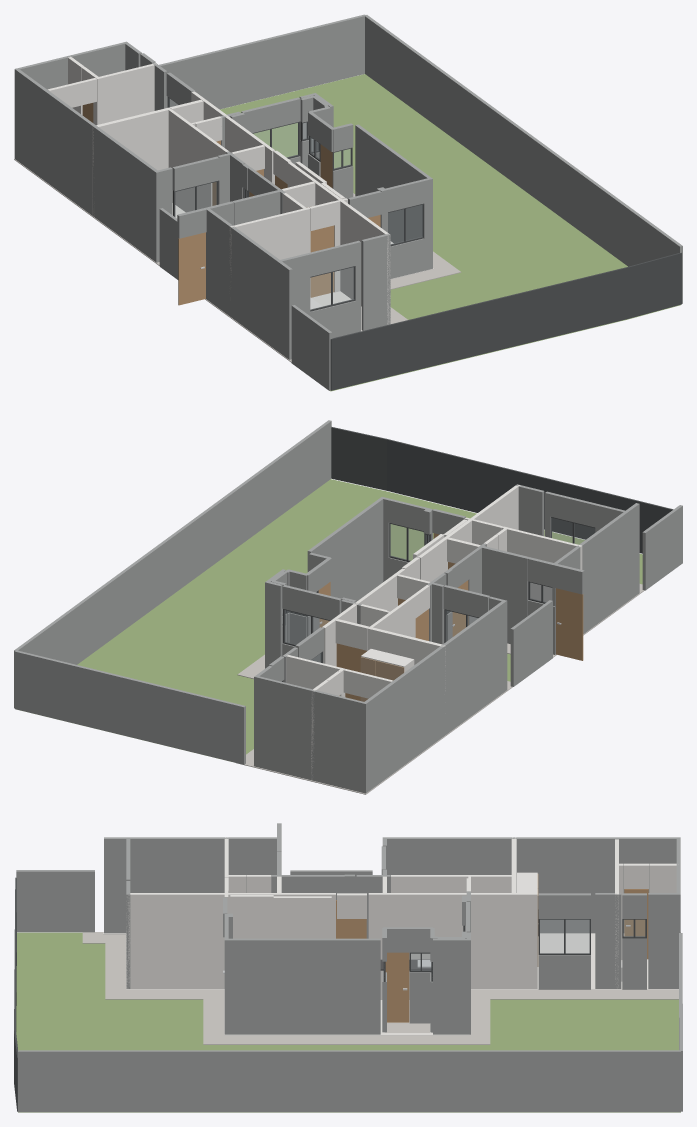
Rendered from casa.glb.
3 renders of one model, top to bottom at view 1: azimuth 30°, elevation 25°; view 2: azimuth 150°, elevation 25°; view 3: azimuth 270°, elevation 25°, orthographic. The views are drawn at different scales.
Parts seen in each view (by area): view 1: fachada, grama, parede, esquadria, vidro, door5_swing__porta, concreto, door11_swing__porta; view 2: fachada, grama, parede, esquadria, vidro, door5_swing__porta, concreto, door3_swing__porta, madeira; view 3: fachada, parede, grama, concreto, piso, vidro, door7_swing__porta, esquadria, door10_swing__porta, door12_swing__porta, armario.
Boxes of the visible parts, box(x1,y1,x2,y2) form: fachada: box(14, 14, 682, 390); grama: box(220, 74, 680, 391); parede: box(47, 56, 390, 324); esquadria: box(167, 97, 681, 390); vidro: box(169, 98, 422, 309); door5_swing__porta: box(178, 232, 205, 305); concreto: box(14, 159, 461, 362); door11_swing__porta: box(310, 225, 334, 297); fachada: box(14, 420, 682, 793); grama: box(21, 479, 642, 761); parede: box(284, 485, 582, 779); esquadria: box(282, 427, 673, 681); vidro: box(282, 518, 594, 662); door5_swing__porta: box(556, 588, 583, 660); concreto: box(236, 584, 644, 794); door3_swing__porta: box(336, 643, 366, 700); madeira: box(360, 657, 404, 701); fachada: box(16, 823, 682, 1112); parede: box(126, 837, 676, 988); grama: box(16, 932, 680, 1112); concreto: box(82, 932, 680, 1044); piso: box(103, 932, 678, 1035); vidro: box(411, 920, 644, 970); door7_swing__porta: box(385, 952, 409, 1022); esquadria: box(14, 877, 646, 1111); door10_swing__porta: box(624, 889, 648, 959); door12_swing__porta: box(337, 919, 366, 938); armario: box(380, 872, 537, 999).
Bounding box in the file's own units: 12.39 × 2.83 × 18.
